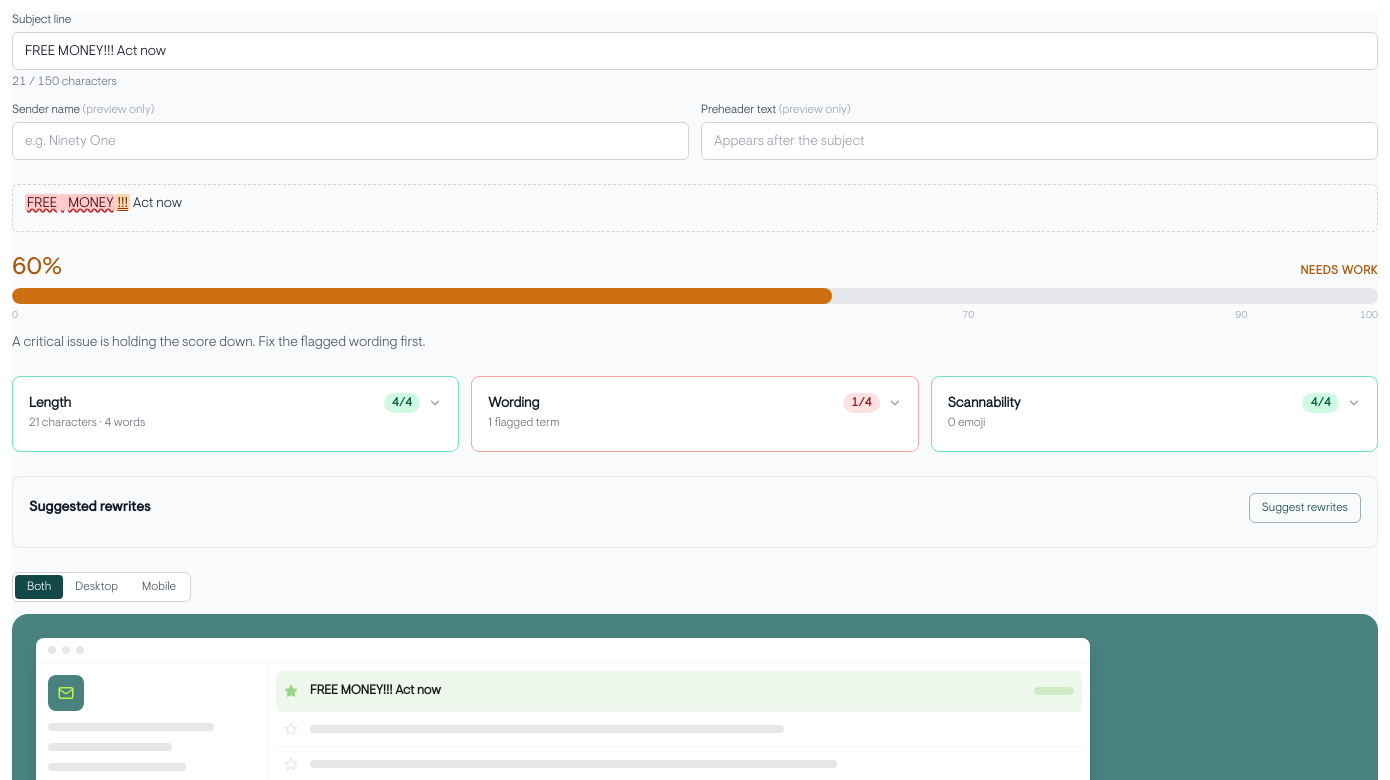
suggestions on › offers rewrites that are re-scored and better than the original
Click the button "Suggest rewrites".
click(1305, 508)  # box [1249,493,1361,523]
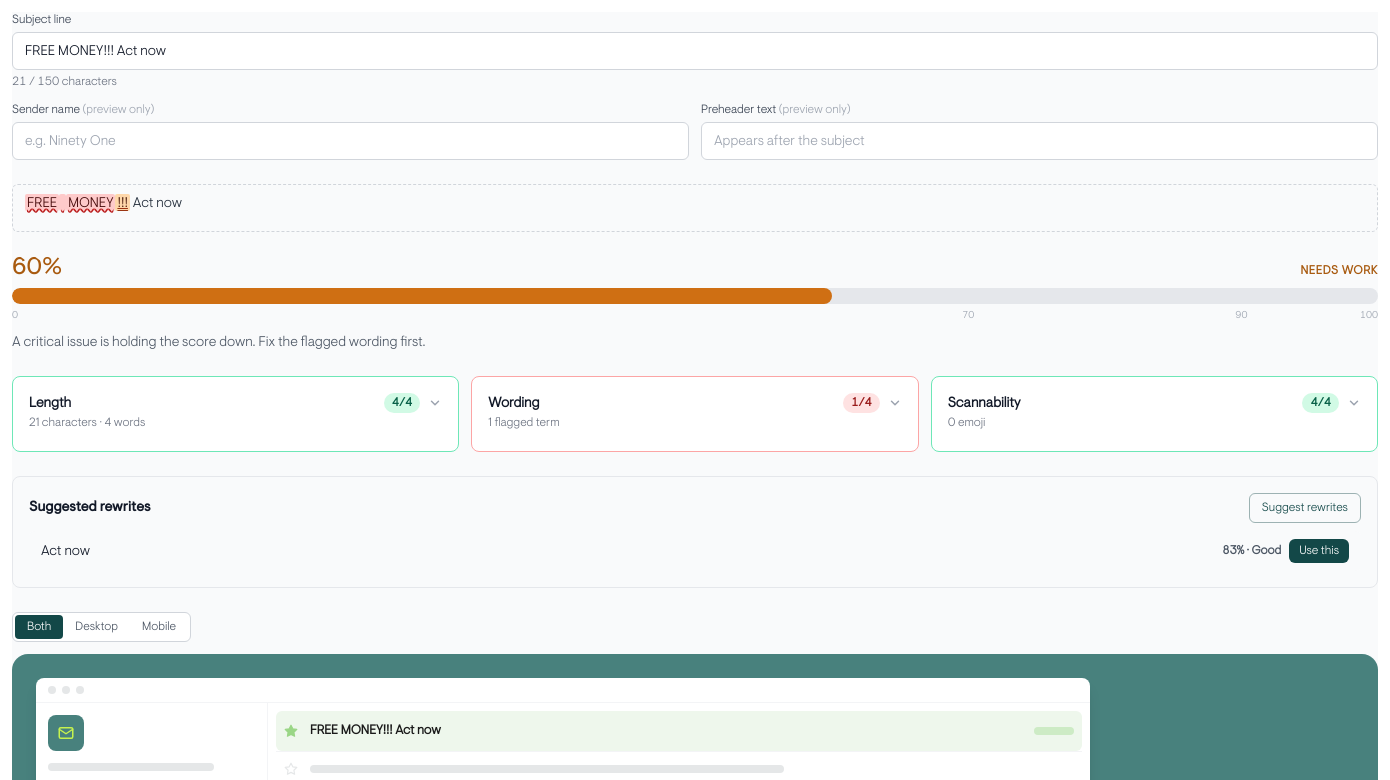
Now the list item "Act now 83% · Good Use this" is shown, box [29,531,1361,571]
